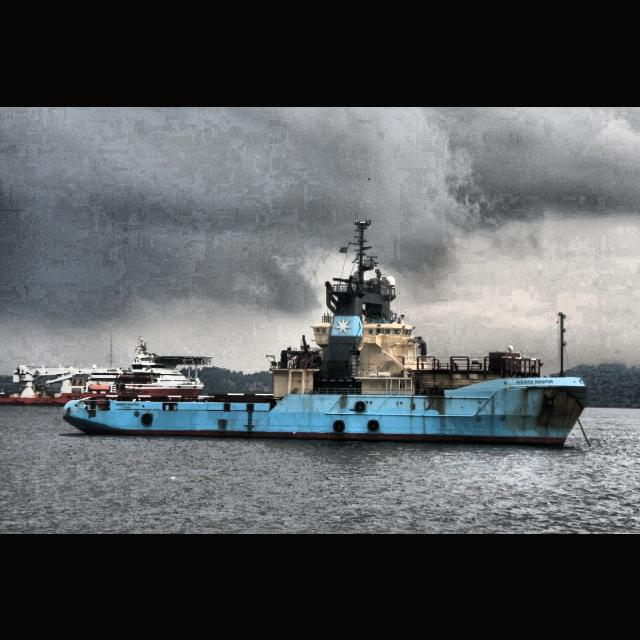anchor_handling_tug_supply: (61, 266, 589, 449), (1, 339, 205, 411)
